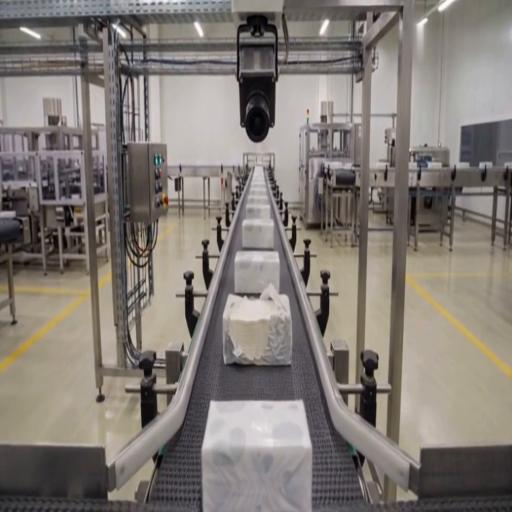defective: (202, 398, 310, 511), (222, 286, 293, 366)
good: (234, 250, 280, 295), (242, 219, 278, 252), (246, 181, 271, 201), (246, 200, 272, 219), (247, 169, 268, 186)
